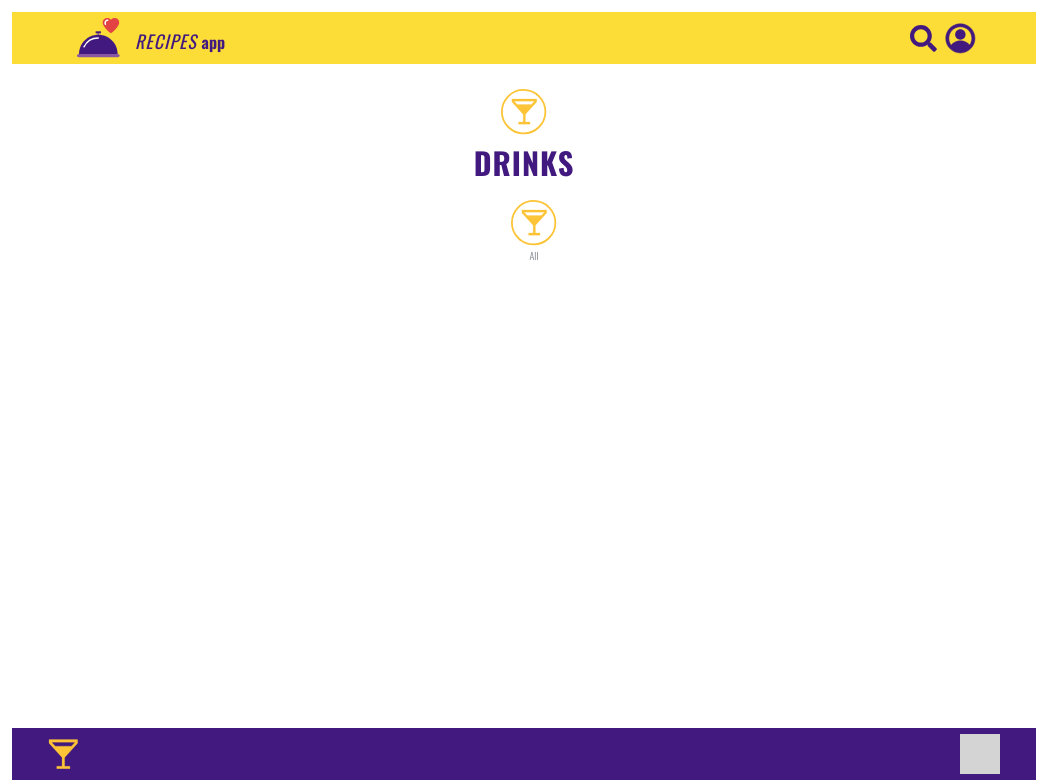
verificar se ao clicar no botão de meals, a rota muda para a página de meals
Expected: the heading "Drinks" is shown, x1=474 y1=145 x2=574 y2=182
Step 1. Click the button with test id "meals-bottom-btn" → (980, 754), box x1=924 y1=734 x2=1036 y2=774
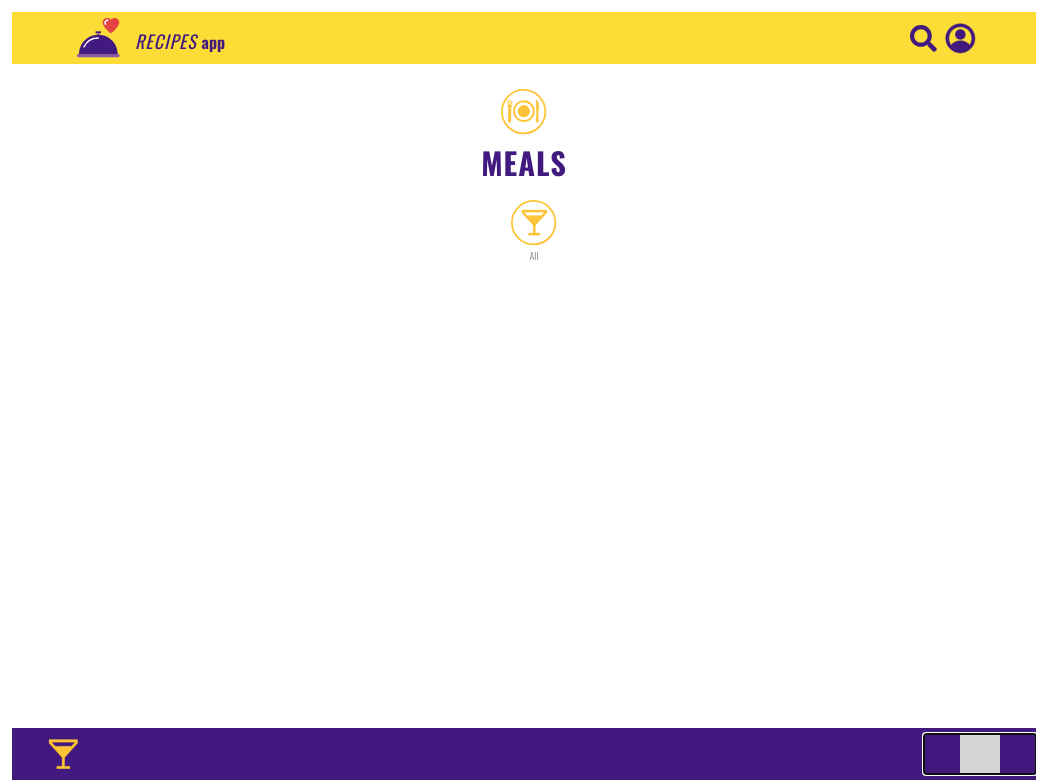
Expected: the heading "Meals" is shown, x1=481 y1=145 x2=567 y2=182
